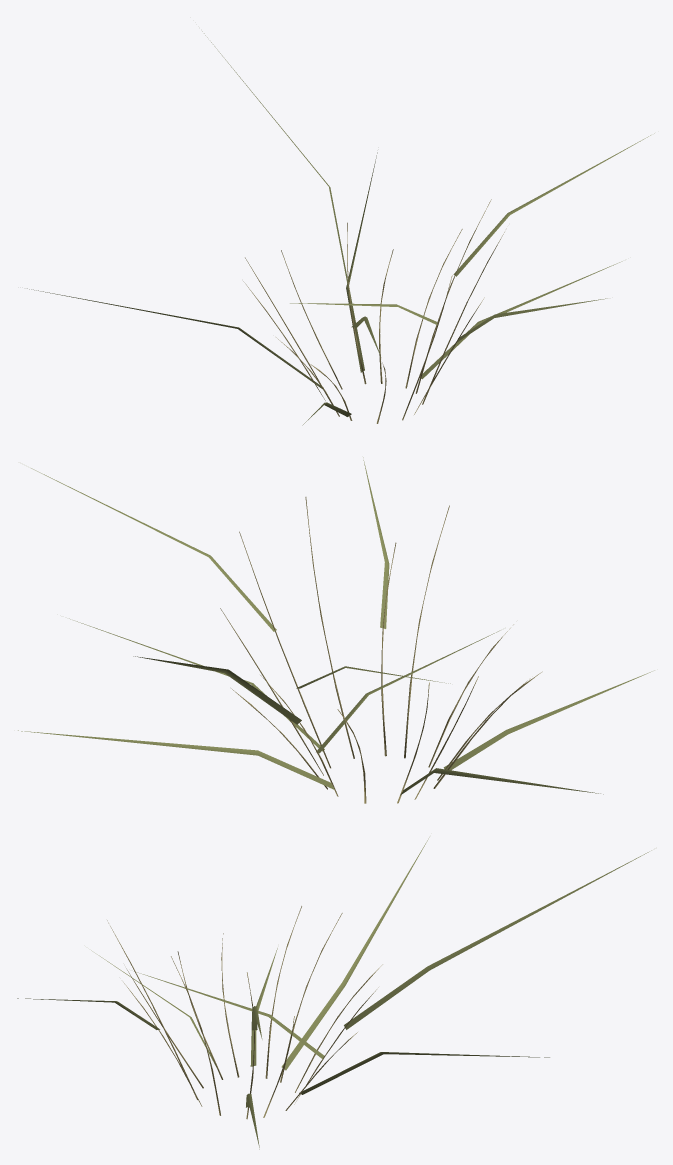
Rendered from Herbes_0_Niveau2.fbx.
3 renders of one model, top to bottom at view 1: azimuth 30°, elevation 25°; view 2: azimuth 150°, elevation 25°; view 3: azimuth 270°, elevation 25°, orthographic. The views are drawn at different scales.
Parts seen in each view (by area): view 1: Herbes_0_Niveau2; view 2: Herbes_0_Niveau2; view 3: Herbes_0_Niveau2.
Part boxes in pixels (box(x1,y1,x2,y2)): Herbes_0_Niveau2: box(27, 31, 654, 425); Herbes_0_Niveau2: box(18, 457, 654, 803); Herbes_0_Niveau2: box(17, 837, 651, 1149).
Bounding box in the file's own units: 89.89 × 37.16 × 84.77.
